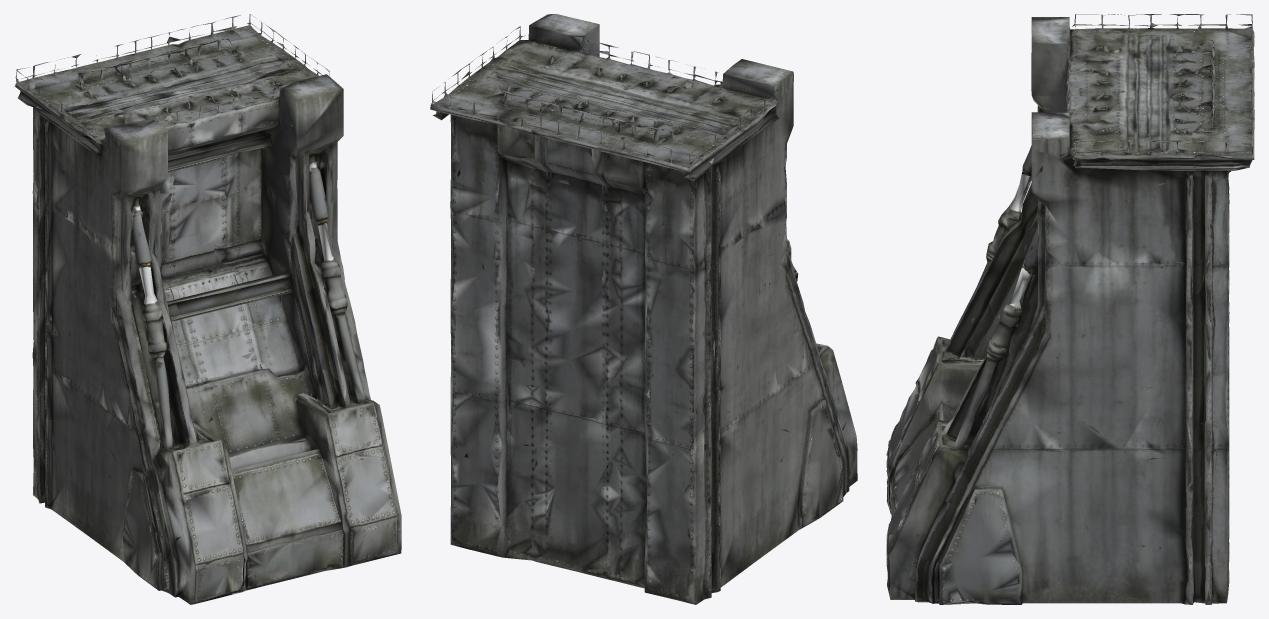
The model's file is dam_gate.glb.
3 views of the same model, side by side, from view 1: azimuth 30°, elevation 25°; view 2: azimuth 150°, elevation 25°; view 3: azimuth 270°, elevation 25° (orthographic). The views are drawn at different scales.
Parts seen in each view (by area): view 1: dam_gate; view 2: dam_gate; view 3: dam_gate.
Part boxes in pixels (box(x1,y1,x2,y2)): dam_gate: box(14, 14, 401, 604); dam_gate: box(430, 14, 857, 604); dam_gate: box(886, 14, 1254, 604).
Bounding box in the file's own units: 1.12 × 1.9 × 1.36.
1 material, 1 textured.
